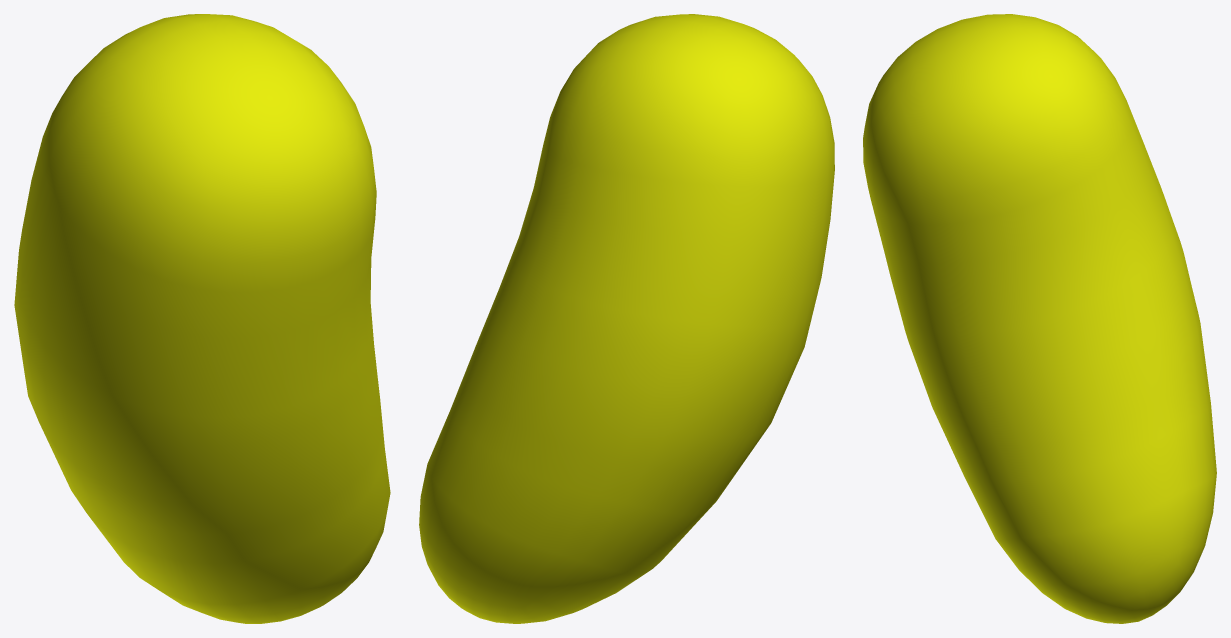
Rendered from model_baloon_lv_1_5.fbx.
3 renders of one model, left to right at view 1: azimuth 30°, elevation 25°; view 2: azimuth 150°, elevation 25°; view 3: azimuth 270°, elevation 25°, orthographic. The views are drawn at different scales.
Parts seen in each view (by area): view 1: lv_1_5; view 2: lv_1_5; view 3: lv_1_5.
Part boxes in pixels (x1,y1,x2,y2): lv_1_5: [14, 14, 390, 623]; lv_1_5: [419, 14, 834, 623]; lv_1_5: [863, 14, 1216, 623].
Bounding box in the file's own units: 45.63 × 77.07 × 46.19.
